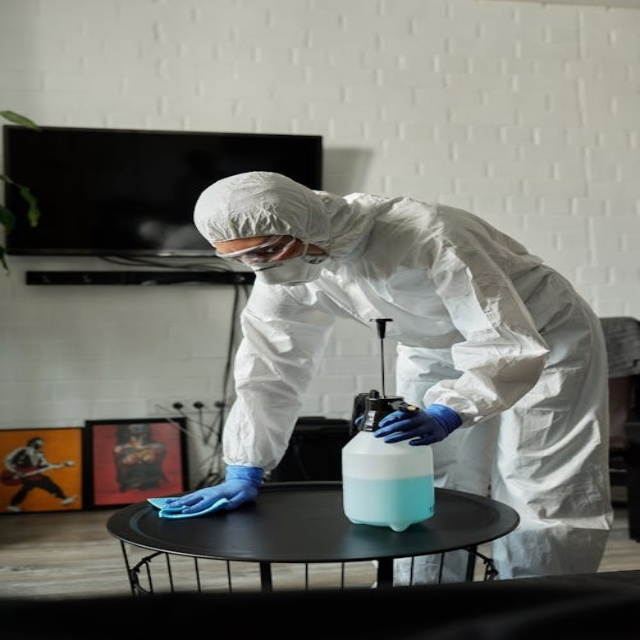Gafas: (216, 235, 317, 267)
Guantes: (160, 464, 266, 517), (375, 402, 460, 447)
Mascara: (240, 241, 327, 287)
